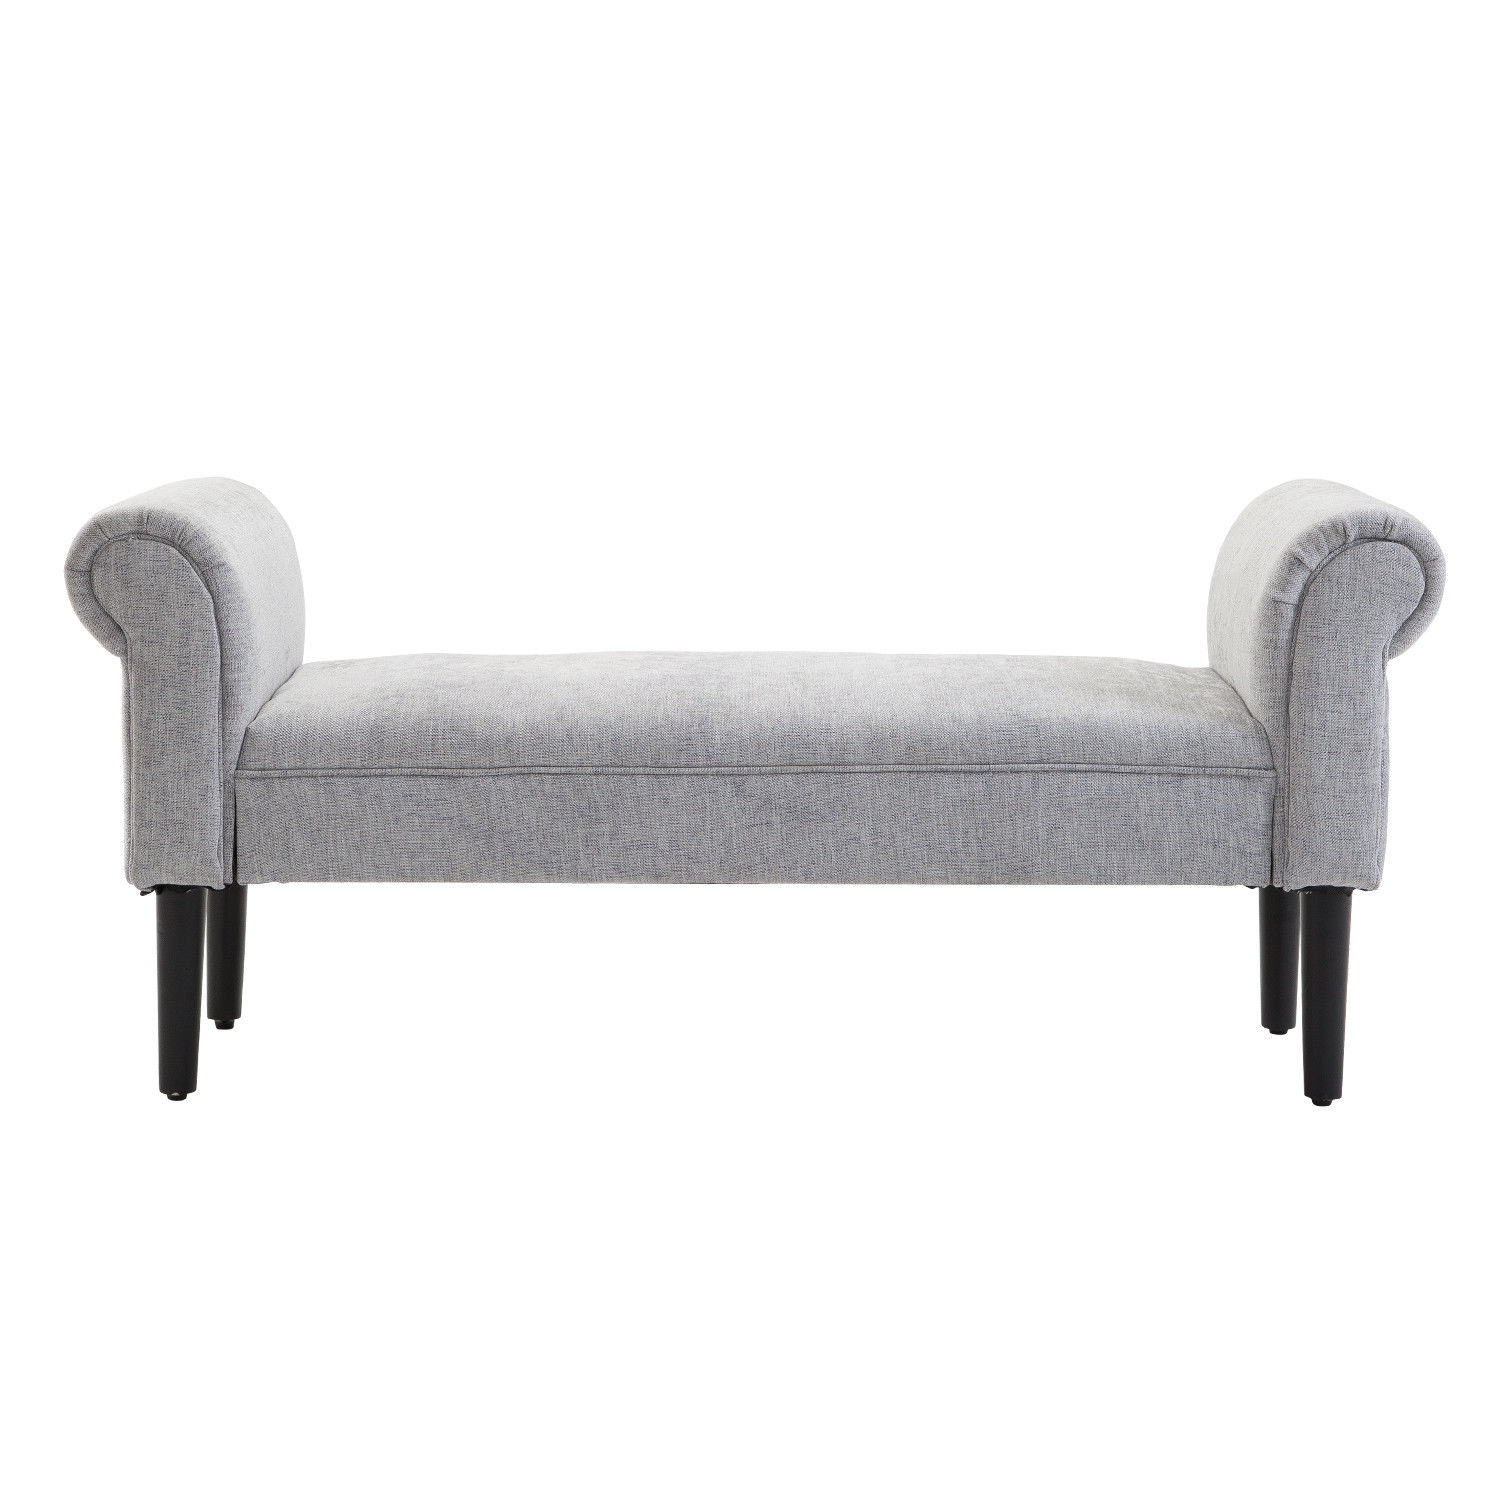chairs: (32, 457, 1446, 1124)
